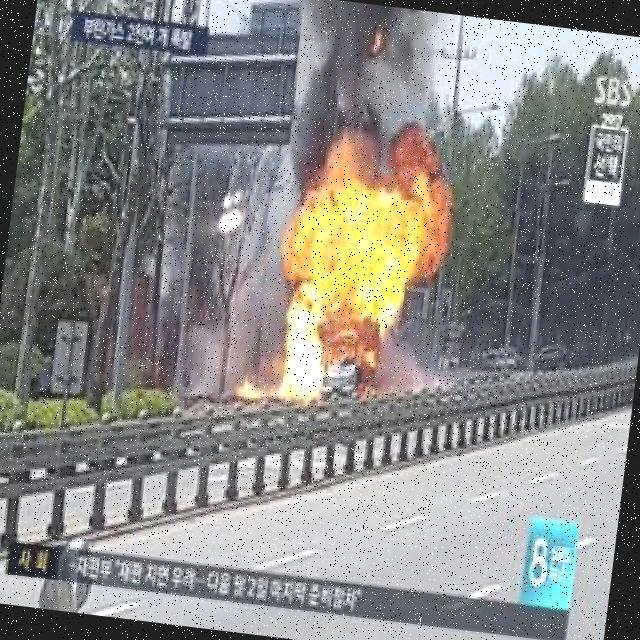Fire: (264, 176, 444, 407)
